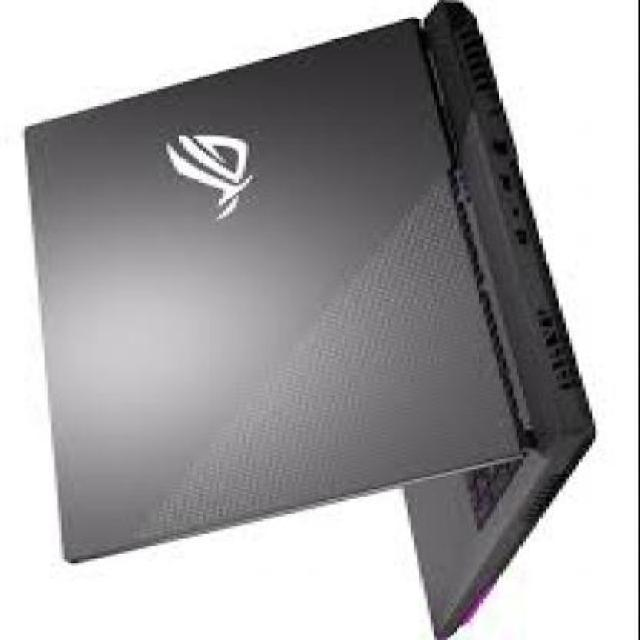laptop: (21, 0, 596, 639)
